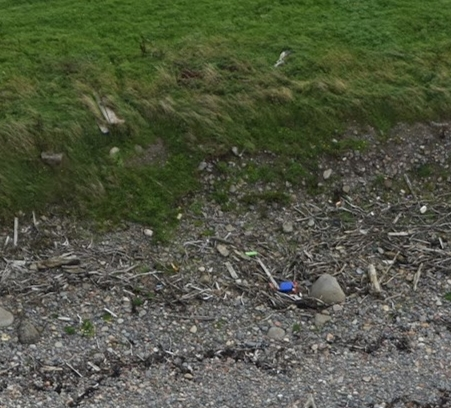wood_together: (21, 188, 451, 307)
